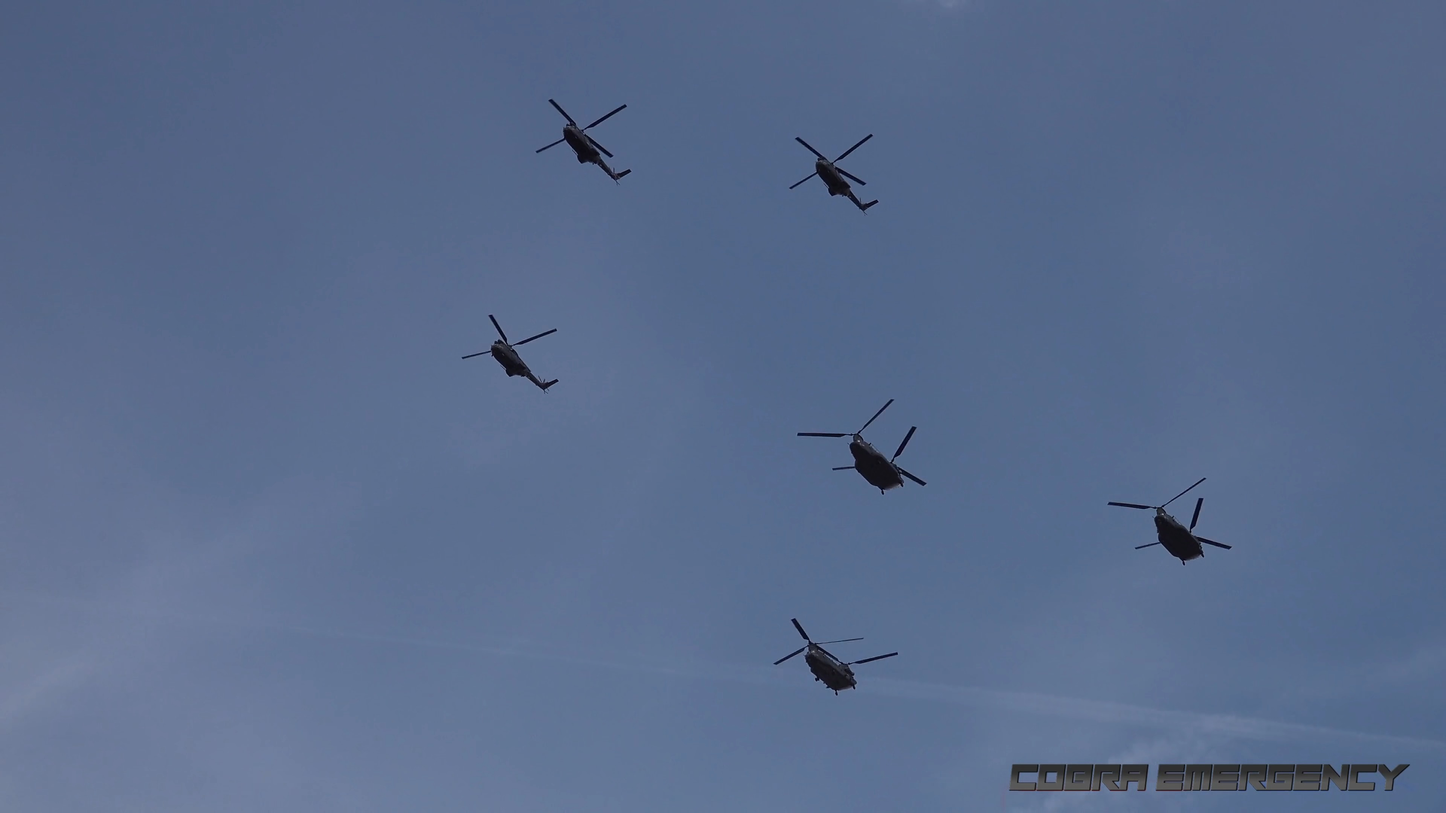helicopter: (789, 394, 927, 511), (521, 92, 665, 193), (764, 612, 902, 715), (770, 132, 917, 226), (1100, 480, 1236, 572), (454, 309, 561, 401)
